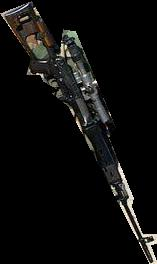gun: (0, 1, 157, 264)
